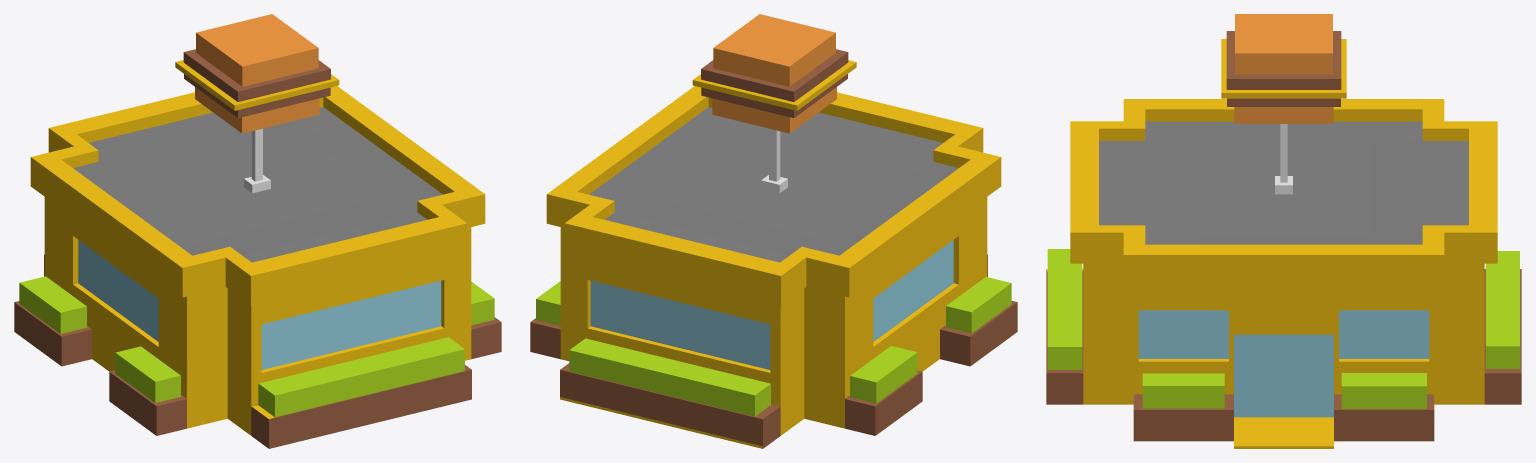
Rendered from BurgerShop.fbx.
3 views of the same model, side by side, from view 1: azimuth 30°, elevation 25°; view 2: azimuth 150°, elevation 25°; view 3: azimuth 270°, elevation 25° (orthographic). The views are drawn at different scales.
Parts seen in each view (by area): view 1: Cube; view 2: Cube; view 3: Cube.
Part boxes in pixels (x1,y1,x2,y2): Cube: (14,14,501,448); Cube: (530,14,1017,448); Cube: (1046,14,1521,448).
Size of the model in its own units: 355 by 284 by 384.
